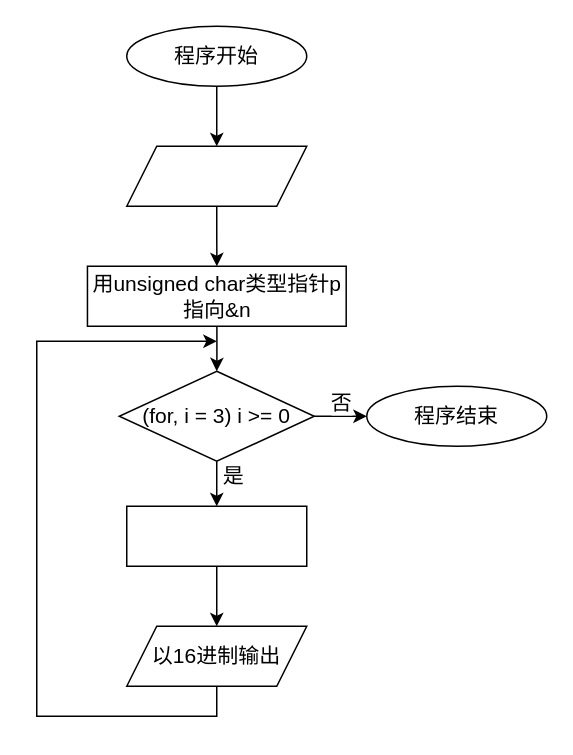
Image size: 573x755. Some labels were removed from this diagram. Each missing label, with the box of its shape:
取p[i]的高、低4位: (125, 505, 307, 566)
输入长整型: (125, 145, 307, 206)
